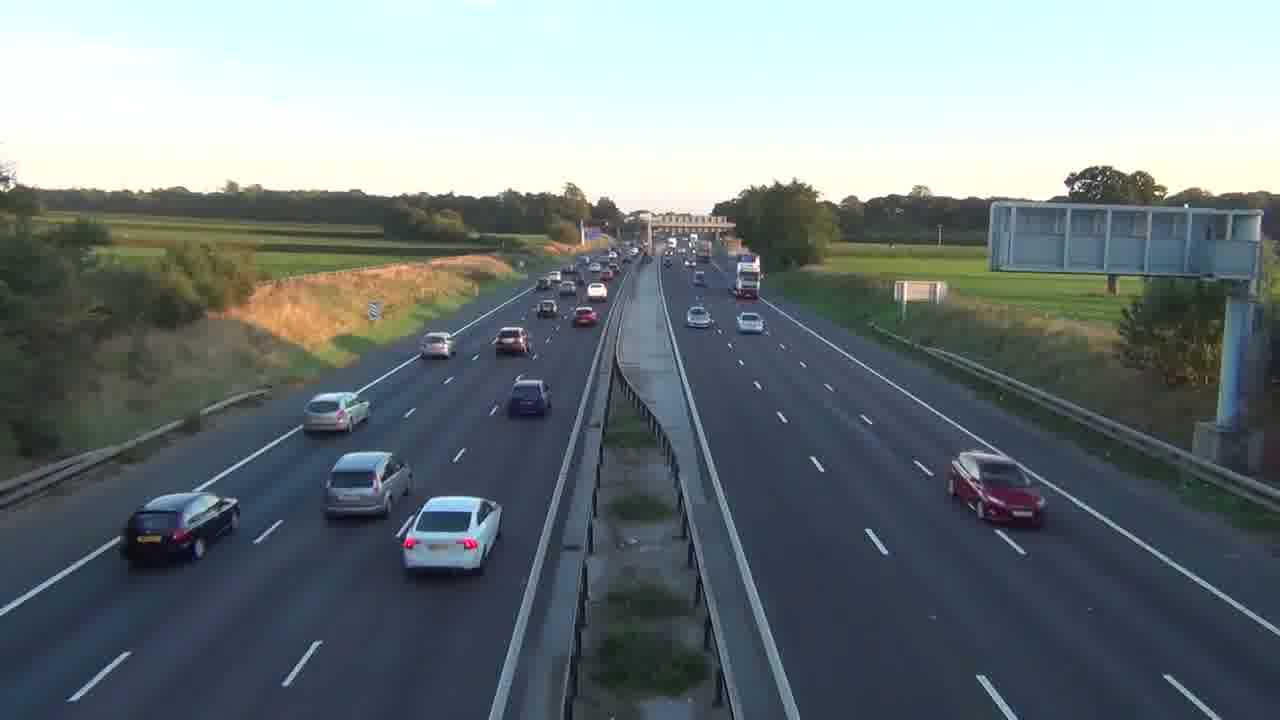car: (119, 491, 241, 566), (395, 495, 503, 576), (946, 448, 1046, 528), (321, 450, 413, 519), (303, 391, 369, 434), (507, 375, 551, 417), (417, 331, 453, 358), (737, 311, 767, 335), (686, 305, 713, 327), (573, 306, 597, 327)
